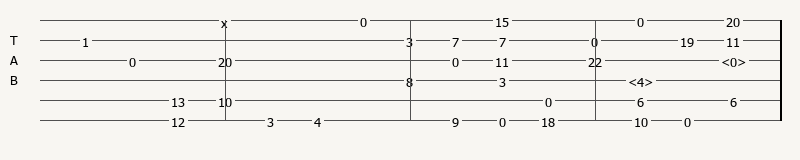0: (129, 54, 140, 67), (360, 14, 371, 27), (452, 54, 463, 67), (499, 114, 510, 127), (545, 94, 556, 107), (591, 34, 602, 47), (637, 14, 648, 27), (684, 114, 695, 127)
1: (82, 34, 93, 47)
10: (218, 94, 236, 107), (634, 114, 652, 127)
11: (495, 54, 513, 67), (726, 34, 744, 47)
12: (171, 114, 189, 127)
13: (171, 94, 189, 107)
15: (495, 14, 513, 27)
18: (541, 114, 559, 127)
19: (680, 34, 698, 47)
20: (218, 54, 236, 67), (726, 14, 744, 27)
22: (588, 54, 606, 67)
3: (267, 114, 278, 127), (406, 34, 417, 47), (499, 74, 510, 87)
4: (314, 114, 325, 127)
6: (637, 94, 648, 107), (730, 94, 741, 107)
7: (452, 34, 463, 47), (499, 34, 510, 47)
8: (406, 74, 417, 87)
9: (452, 114, 463, 127)
harmonic: (628, 74, 657, 87), (721, 54, 750, 67)
x: (221, 15, 232, 26)
